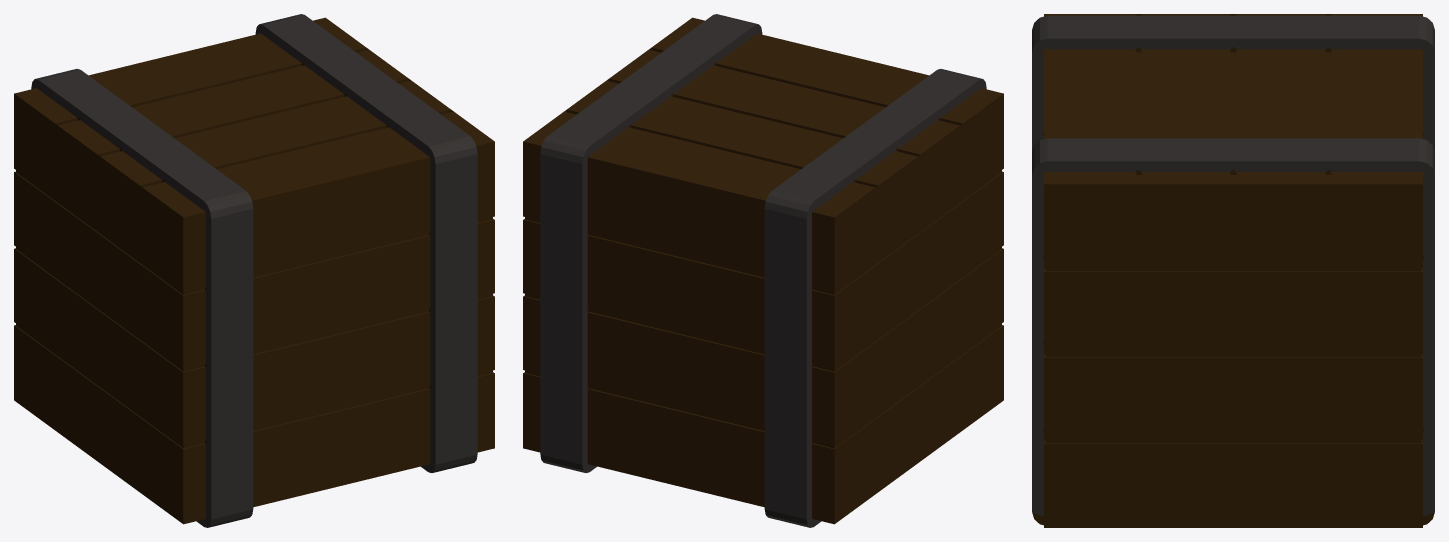
File: WoodenCrate3.glb
3 renders of one model, left to right at view 1: azimuth 30°, elevation 25°; view 2: azimuth 150°, elevation 25°; view 3: azimuth 270°, elevation 25°, orthographic. The views are drawn at different scales.
Parts seen in each view (by area): view 1: Wooden_Crate_1; view 2: Wooden_Crate_1; view 3: Wooden_Crate_1.
Boxes of the visible parts, x1=… form: Wooden_Crate_1: x1=14, y1=14, x2=494, y2=527; Wooden_Crate_1: x1=523, y1=14, x2=1003, y2=527; Wooden_Crate_1: x1=1032, y1=14, x2=1434, y2=527.
Size of the model in its own units: 0.5 by 0.5 by 0.5.
